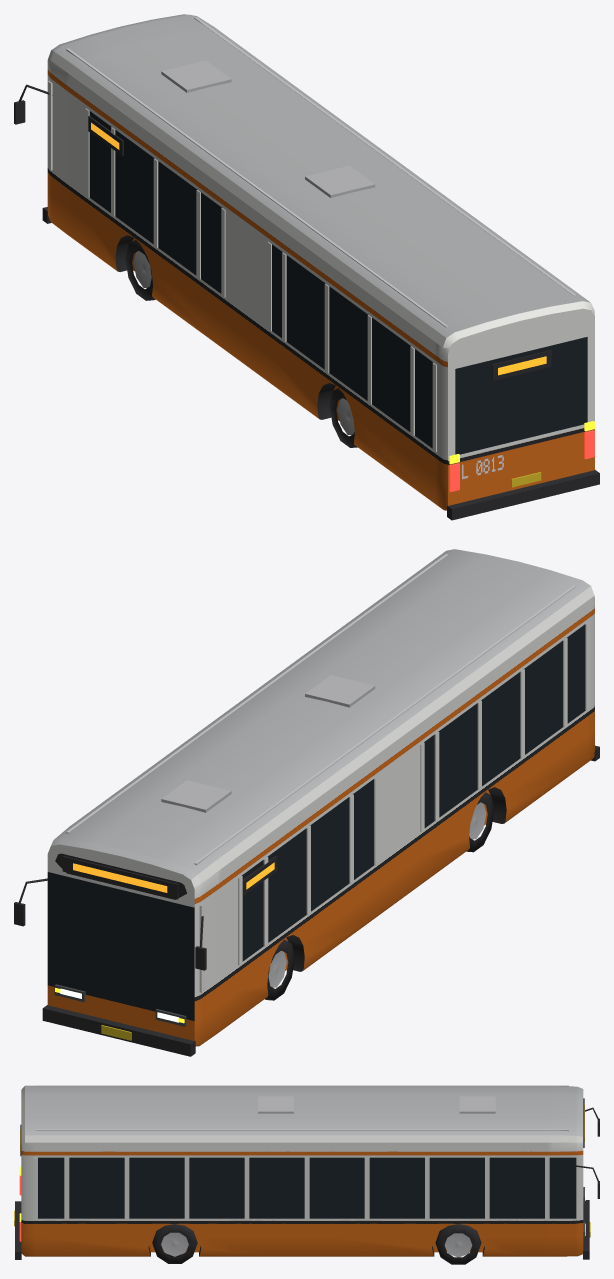
Rendered from bus_lowfloor_lod1.glb.
3 renders of one model, top to bottom at view 1: azimuth 30°, elevation 25°; view 2: azimuth 150°, elevation 25°; view 3: azimuth 270°, elevation 25°, orthographic. The views are drawn at different scales.
Parts seen in each view (by area): view 1: body, wheel_fl, dest_rear, wheel_rl; view 2: body, dest_front, wheel_fl, wheel_rl; view 3: body, wheel_fr, wheel_rr.
Part boxes in pixels (x1,y1,x2,y2): body: (14, 14, 599, 520); wheel_fl: (125, 240, 155, 300); dest_rear: (492, 350, 551, 380); wheel_rl: (329, 388, 357, 447); body: (14, 549, 599, 1056); dest_front: (62, 856, 178, 899); wheel_fl: (265, 939, 294, 1000); wheel_rl: (466, 792, 494, 852); body: (14, 1085, 599, 1259); wheel_fr: (435, 1224, 481, 1264); wheel_rr: (152, 1224, 197, 1263).
Bounding box in the file's own units: 3.22 × 3.17 × 12.2.
Materials: 2 (2 with a texture image).
